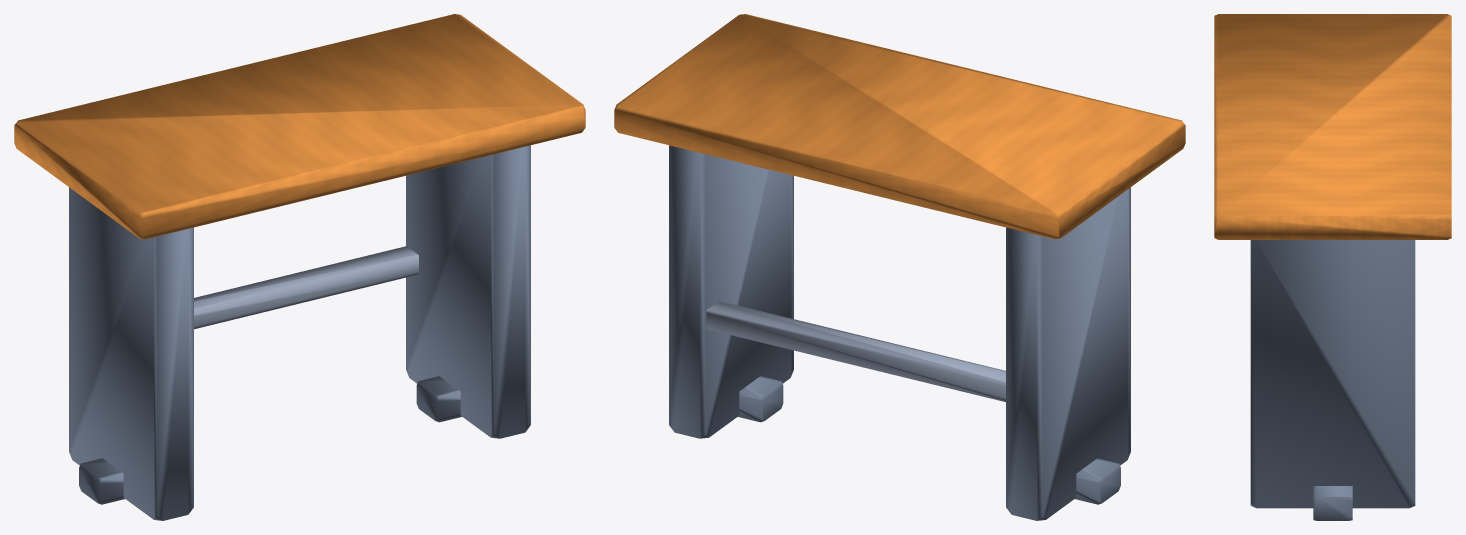
File: 09_standing_desk.glb
3 views of the same model, side by side, from view 1: azimuth 30°, elevation 25°; view 2: azimuth 150°, elevation 25°; view 3: azimuth 270°, elevation 25° (orthographic). The views are drawn at different scales.
Visible parts, largest first — view 1: top.001, column, column_1, crossbar, foot.001, foot; view 2: top.001, column, column_1, crossbar, foot.001, foot; view 3: top.001, column_1, foot.
Part boxes in pixels (bbox=[...]): top.001: bbox=[14, 14, 585, 239]; column: bbox=[69, 187, 193, 520]; column_1: bbox=[406, 145, 530, 438]; crossbar: bbox=[194, 246, 418, 329]; foot.001: bbox=[79, 458, 124, 504]; foot: bbox=[416, 376, 461, 422]; top.001: bbox=[614, 14, 1185, 239]; column: bbox=[1006, 187, 1130, 520]; column_1: bbox=[669, 145, 793, 438]; crossbar: bbox=[706, 301, 1005, 401]; foot.001: bbox=[1075, 458, 1120, 504]; foot: bbox=[738, 376, 783, 422]; top.001: bbox=[1214, 14, 1451, 239]; column_1: bbox=[1250, 240, 1415, 508]; foot: bbox=[1313, 486, 1352, 520].
Size of the model in its own units: 1.45 by 1.04 by 0.72.
Materials: 4 (1 with a texture image).
